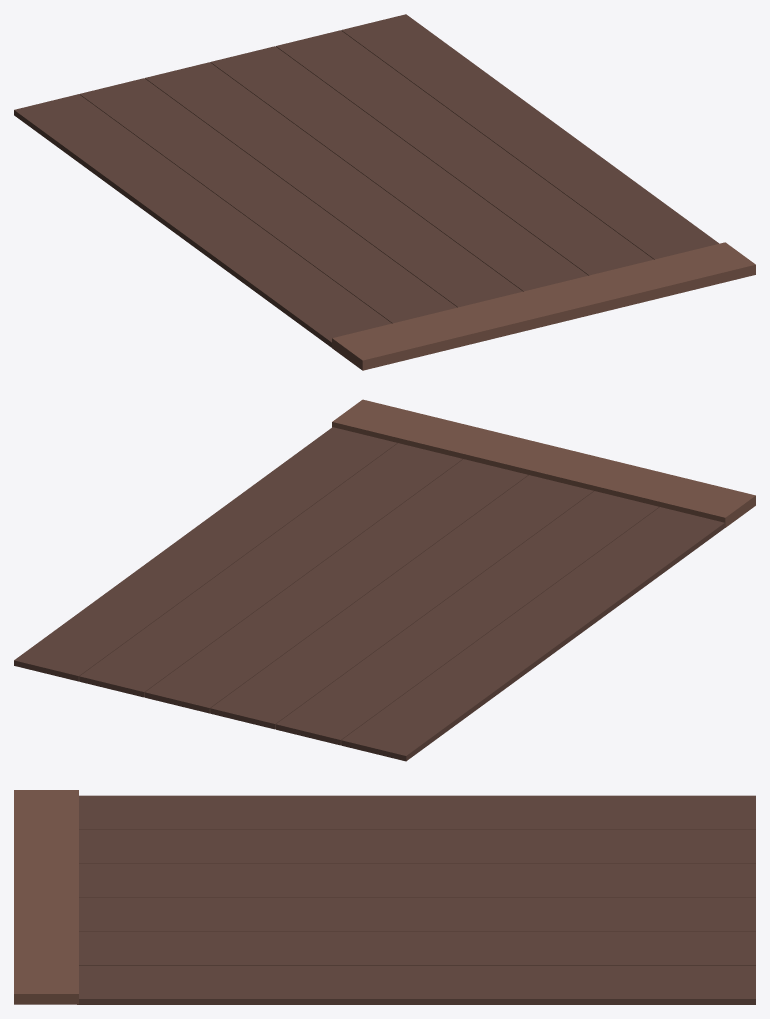
File: set_1_floor.glb
The picture shows the model from 3 angles, top to bottom: view 1: azimuth 30°, elevation 25°; view 2: azimuth 150°, elevation 25°; view 3: azimuth 270°, elevation 25°; orthographic projection. The views are drawn at different scales.
Visible parts, largest first — view 1: Floor; view 2: Floor; view 3: Floor.
Boxes of the visible parts, x1,y1,x2,y2 form: Floor: (14, 14, 755, 370); Floor: (14, 399, 755, 761); Floor: (14, 790, 755, 1004).
Size of the model in its own units: 5.08 by 0.1297 by 7.81.
